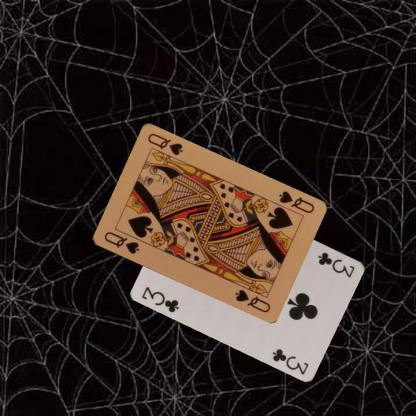3c: (139, 284, 181, 314), (316, 249, 356, 279)
Qs: (275, 188, 316, 215), (101, 229, 141, 256)
